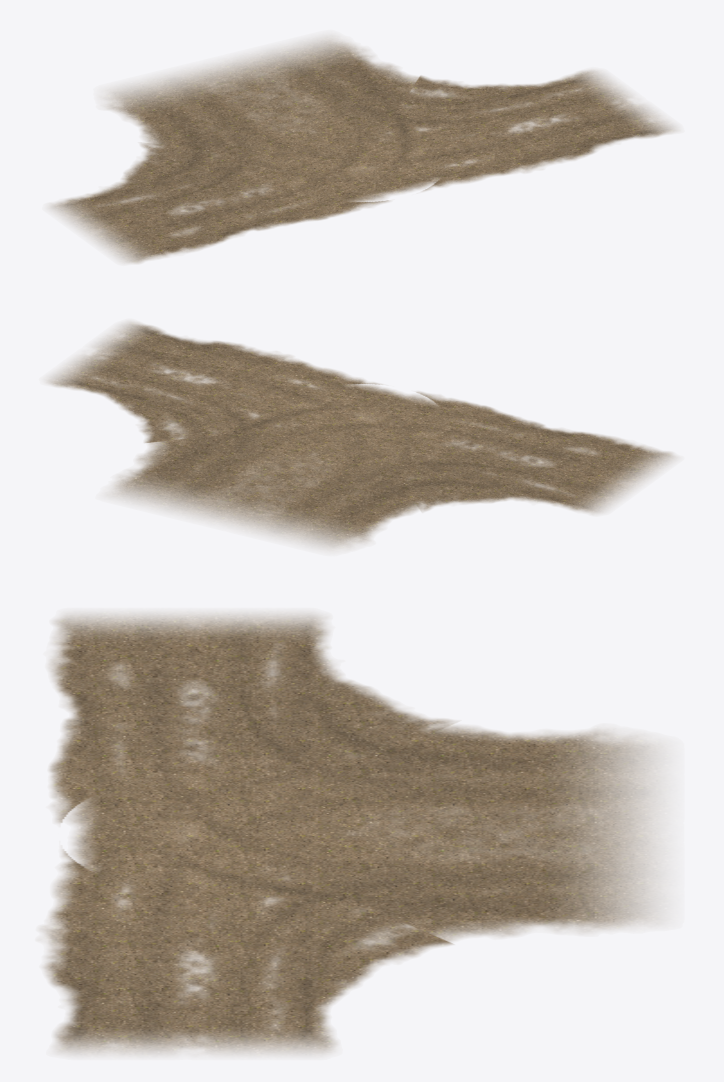
File: road_tee_street_main.glb
3 renders of one model, top to bottom at view 1: azimuth 30°, elevation 25°; view 2: azimuth 150°, elevation 25°; view 3: azimuth 270°, elevation 25°, orthographic. The views are drawn at different scales.
Visible parts, largest first — view 1: road_tee_street_main; view 2: road_tee_street_main; view 3: road_tee_street_main.
Boxes of the visible parts, x1,y1,x2,y2 form: road_tee_street_main: [49, 37, 676, 263]; road_tee_street_main: [46, 322, 676, 549]; road_tee_street_main: [41, 613, 659, 1054].
Bounding box in the file's own units: 24.58 × 0 × 15.46.
Materials: 1 (1 with a texture image).
